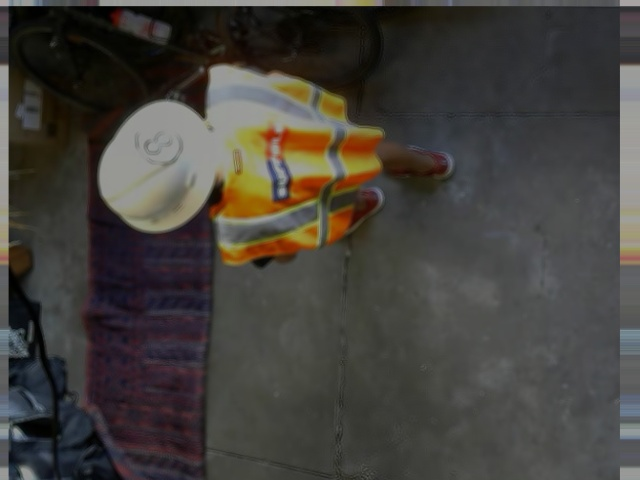eight: (133, 123, 182, 164)
